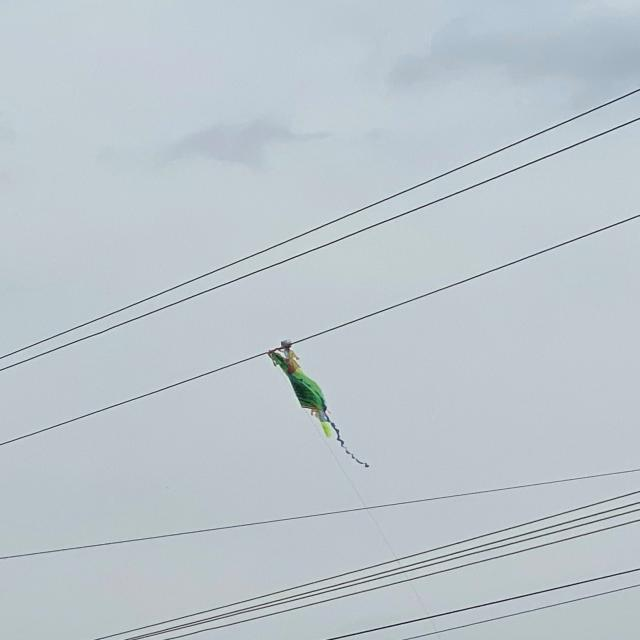植被遮挡: (264, 338, 376, 470)
